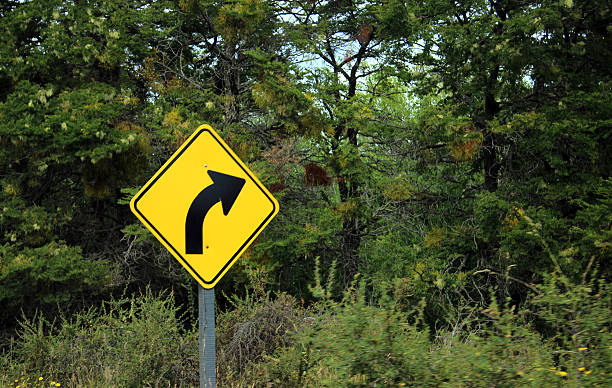right turn: (130, 124, 280, 288)
